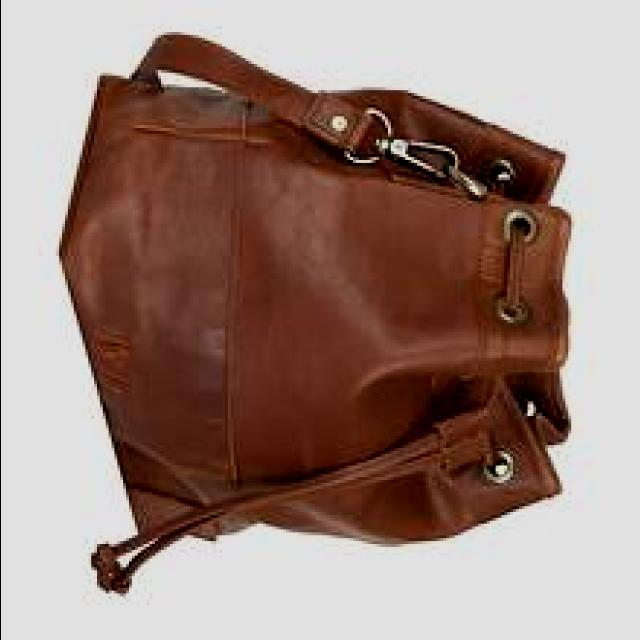backpack: (59, 33, 577, 595)
